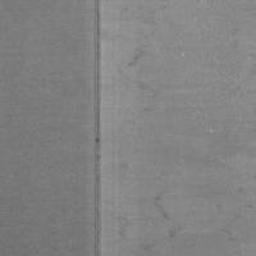Welding line: (92, 0, 102, 256)
